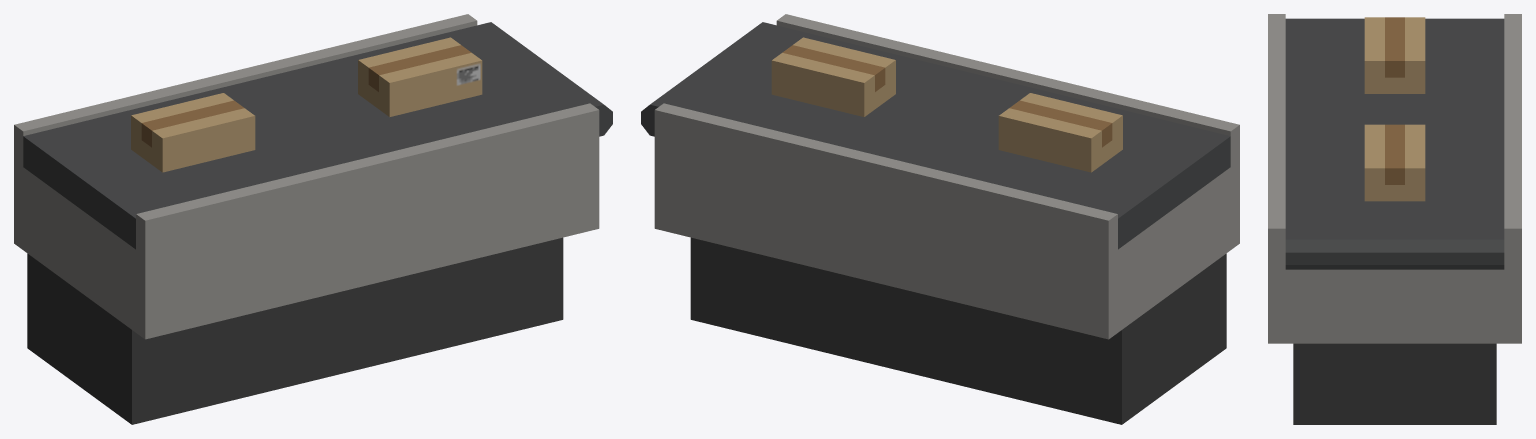
File: SM_Props_Interior_Generic_Factory_Conveyor_End.fbx
3 renders of one model, left to right at view 1: azimuth 30°, elevation 25°; view 2: azimuth 150°, elevation 25°; view 3: azimuth 270°, elevation 25°, orthographic. The views are drawn at different scales.
Parts seen in each view (by area): view 1: SM_Props_Interior_Generic_Factory_Conveyor_End, SM_Props_Interior_Generic_Factory_Conveyor_End_Box; view 2: SM_Props_Interior_Generic_Factory_Conveyor_End, SM_Props_Interior_Generic_Factory_Conveyor_End_Box; view 3: SM_Props_Interior_Generic_Factory_Conveyor_End, SM_Props_Interior_Generic_Factory_Conveyor_End_Box.
Boxes of the visible parts, x1=… form: SM_Props_Interior_Generic_Factory_Conveyor_End: x1=14, y1=14, x2=612, y2=424; SM_Props_Interior_Generic_Factory_Conveyor_End_Box: x1=131, y1=37, x2=482, y2=172; SM_Props_Interior_Generic_Factory_Conveyor_End: x1=641, y1=14, x2=1239, y2=424; SM_Props_Interior_Generic_Factory_Conveyor_End_Box: x1=771, y1=37, x2=1122, y2=172; SM_Props_Interior_Generic_Factory_Conveyor_End: x1=1268, y1=14, x2=1521, y2=424; SM_Props_Interior_Generic_Factory_Conveyor_End_Box: x1=1364, y1=17, x2=1425, y2=201.
Bounding box in the file's own units: 210 × 102 × 100.
